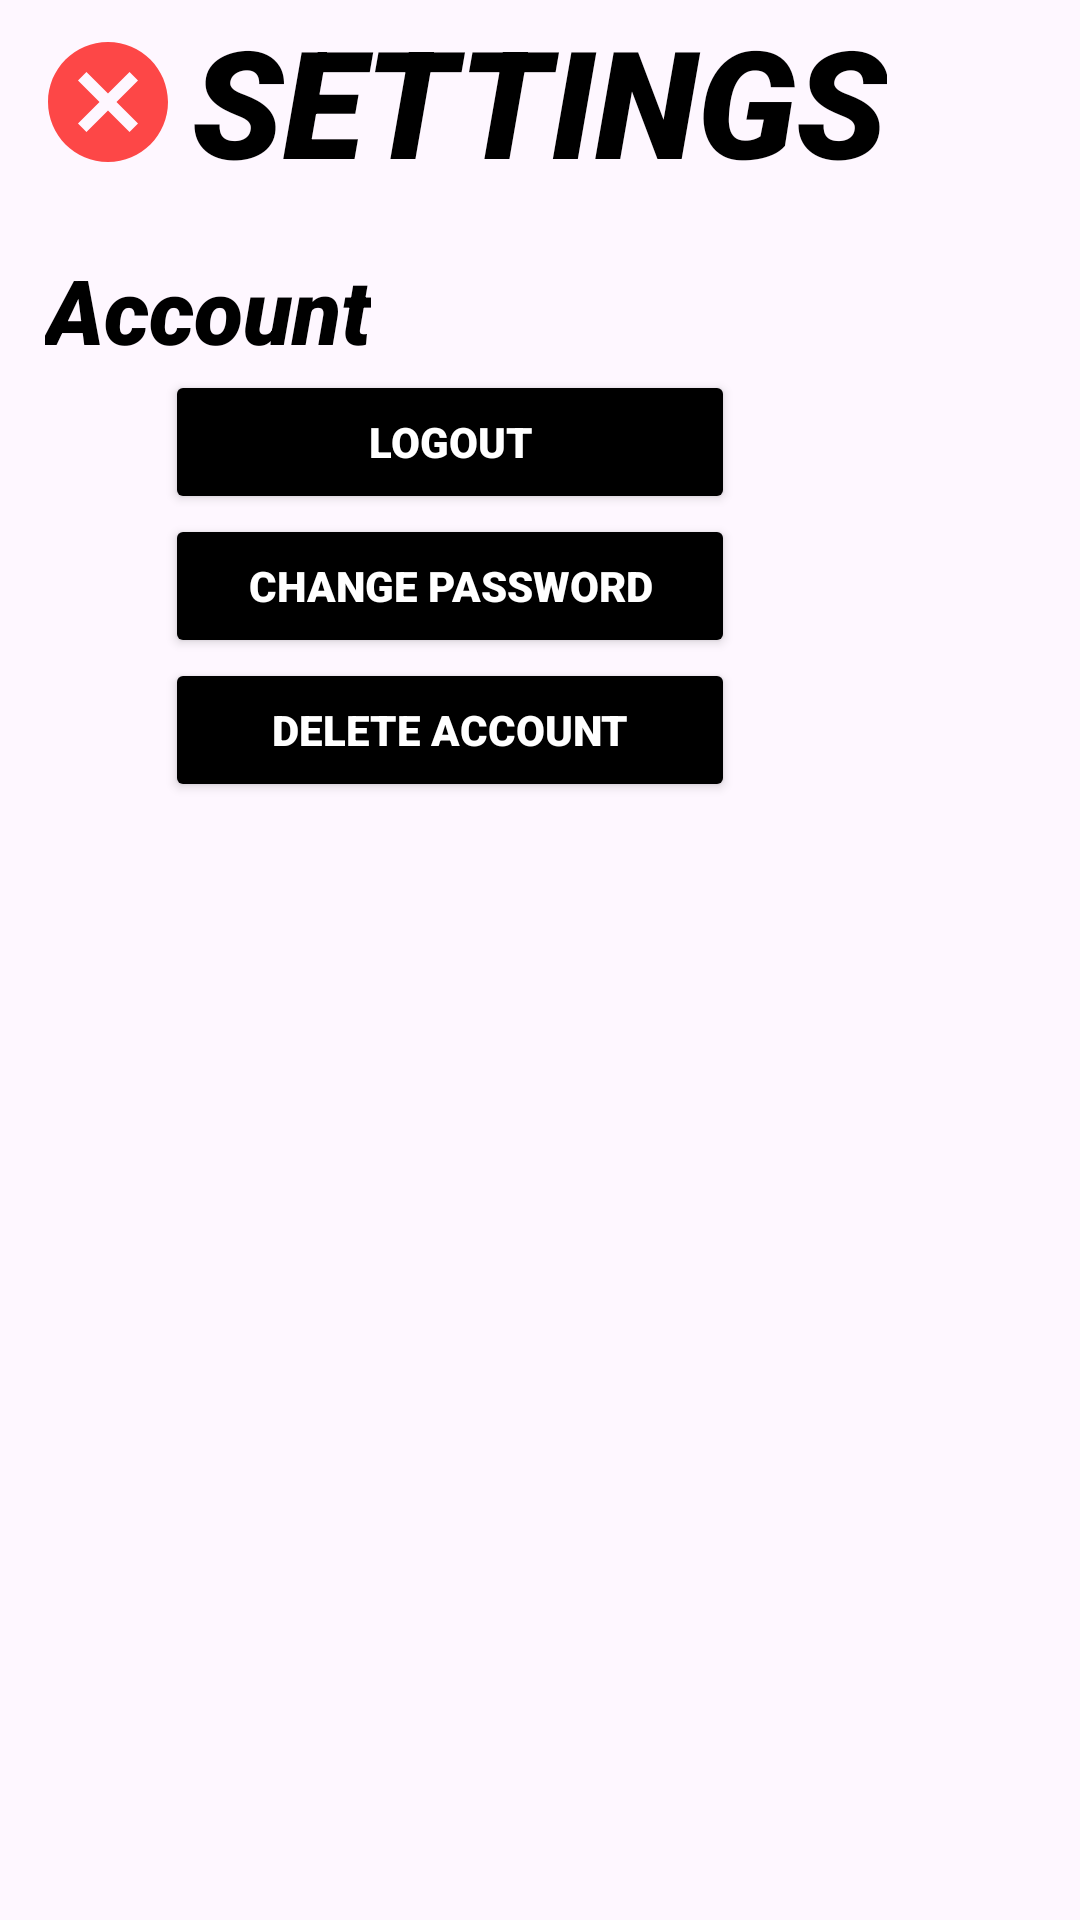

Named icons in this screenshot (1080px×1920px) and their bounding boxes, (x1, y1, x2, y2):
cancel: (48, 42, 168, 162)
